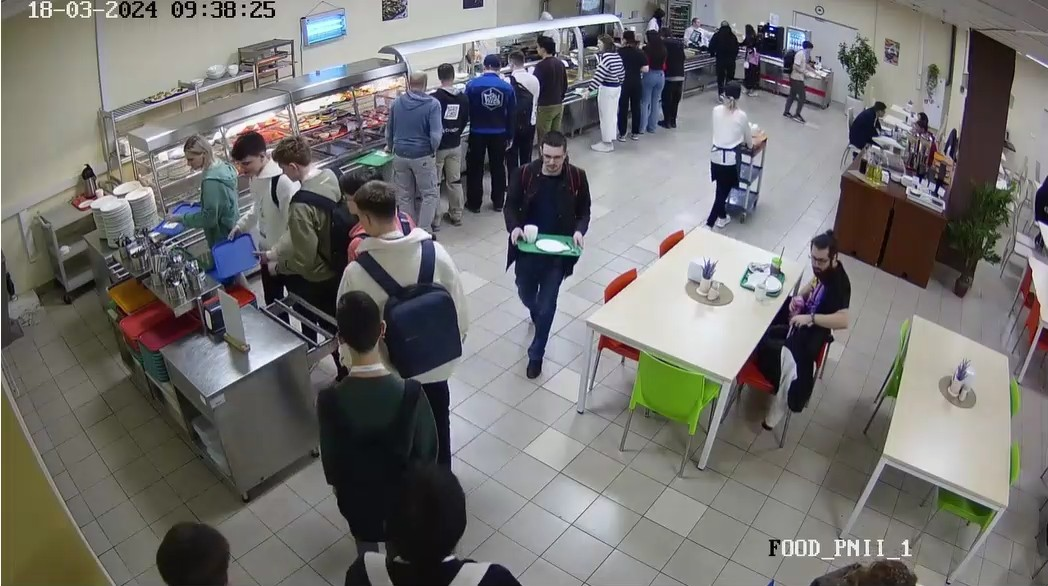Na_Kasse: (710, 17, 734, 83), (740, 14, 757, 94)
Ne_v_Ocheredi: (317, 305, 438, 517), (348, 191, 457, 425), (343, 454, 529, 586), (521, 138, 583, 379), (151, 525, 261, 586), (783, 44, 811, 115)
Personal: (700, 83, 748, 228), (533, 10, 563, 40), (455, 40, 490, 64), (680, 10, 704, 35), (645, 0, 668, 23)
Vybiraet: (269, 137, 343, 284), (383, 65, 448, 222), (228, 137, 286, 269), (468, 50, 509, 219), (170, 136, 240, 233), (430, 53, 466, 230), (584, 32, 621, 154), (538, 41, 570, 132), (622, 32, 647, 140), (661, 39, 687, 130), (644, 31, 666, 137), (510, 52, 533, 135)
Za_Stolom: (778, 232, 867, 339), (784, 534, 925, 586), (840, 101, 891, 175), (904, 109, 947, 153), (1031, 159, 1048, 262)
